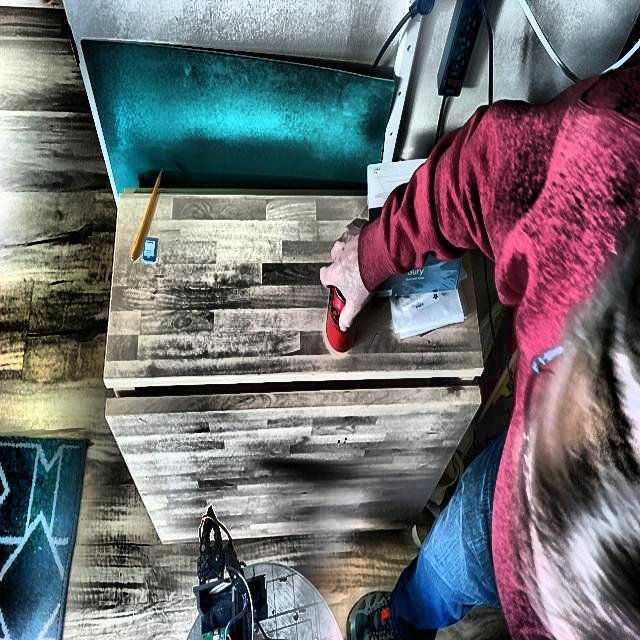CokeZero-can: (325, 279, 360, 358)
